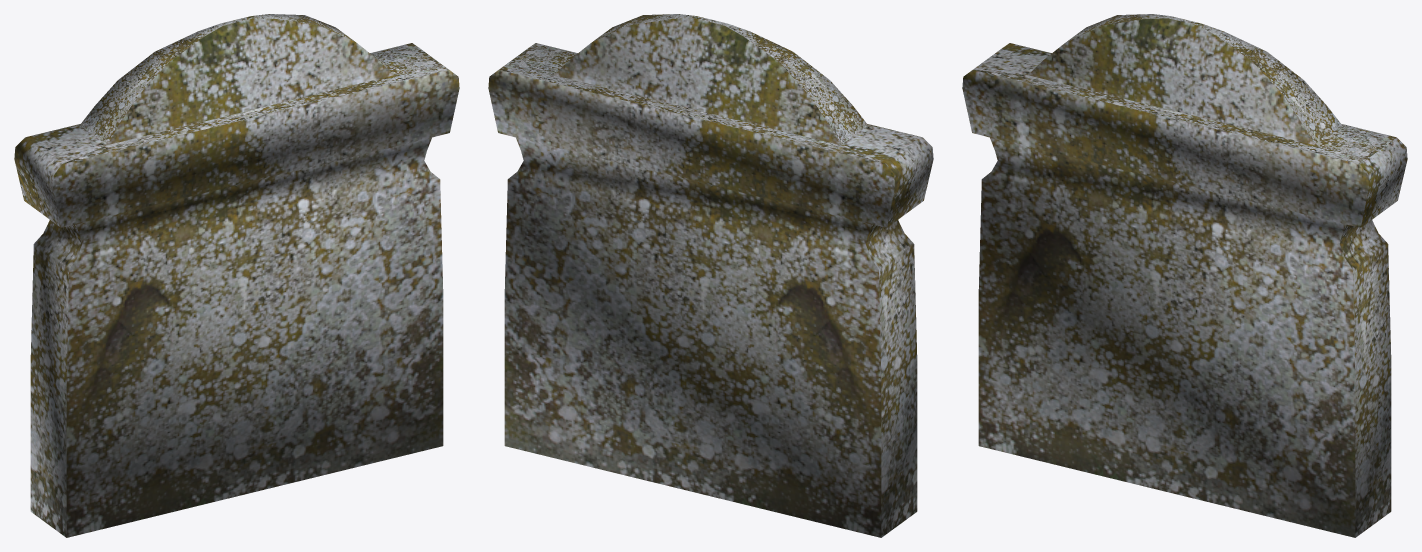
The model's file is gravestoneF.fbx.
3 views of the same model, side by side, from view 1: azimuth 30°, elevation 25°; view 2: azimuth 150°, elevation 25°; view 3: azimuth 330°, elevation 25° (orthographic).
Visible parts, largest first — view 1: U3DMesh; view 2: U3DMesh; view 3: U3DMesh.
Boxes of the visible parts, x1,y1,x2,y2 form: U3DMesh: (14,14,459,537); U3DMesh: (488,14,933,537); U3DMesh: (962,14,1407,537).
Bounding box in the file's own units: 31.75 × 34.18 × 5.23.
